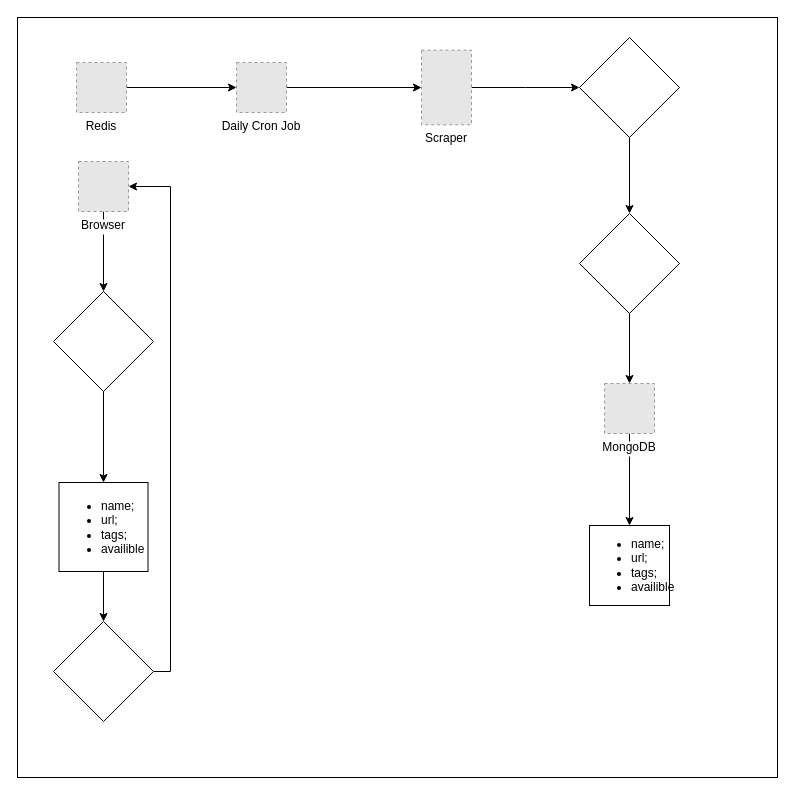
Some shapes in this 795 by 795 pixel diagram are drawn without their labels. Grey dashed boxes stand in for pictures. Each missing label, with the box of its shape:
get jobs from database: (52, 290, 154, 392)
Get jobs URL and name: (578, 36, 680, 138)
return a array of jobs: (52, 620, 154, 722)
Store at database: (578, 212, 680, 314)
